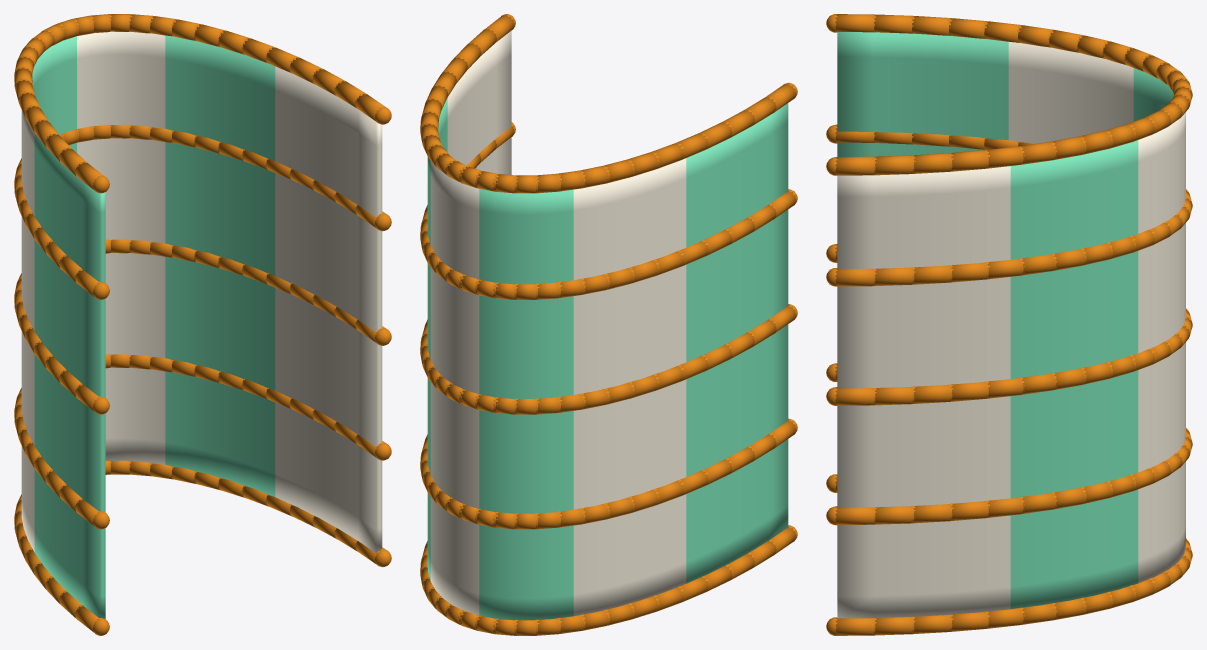
The model's file is PlayTunnel_Premium.fbx.
3 views of the same model, side by side, from view 1: azimuth 30°, elevation 25°; view 2: azimuth 150°, elevation 25°; view 3: azimuth 270°, elevation 25° (orthographic). The views are drawn at different scales.
Parts seen in each view (by area): view 1: PlayTunnel_Body; view 2: PlayTunnel_Body; view 3: PlayTunnel_Body.
Boxes of the visible parts, bbox=[...] form: PlayTunnel_Body: bbox=[14, 14, 391, 635]; PlayTunnel_Body: bbox=[420, 14, 797, 635]; PlayTunnel_Body: bbox=[826, 14, 1192, 635].
Size of the model in its own units: 0.5626 by 0.8291 by 0.5774.
